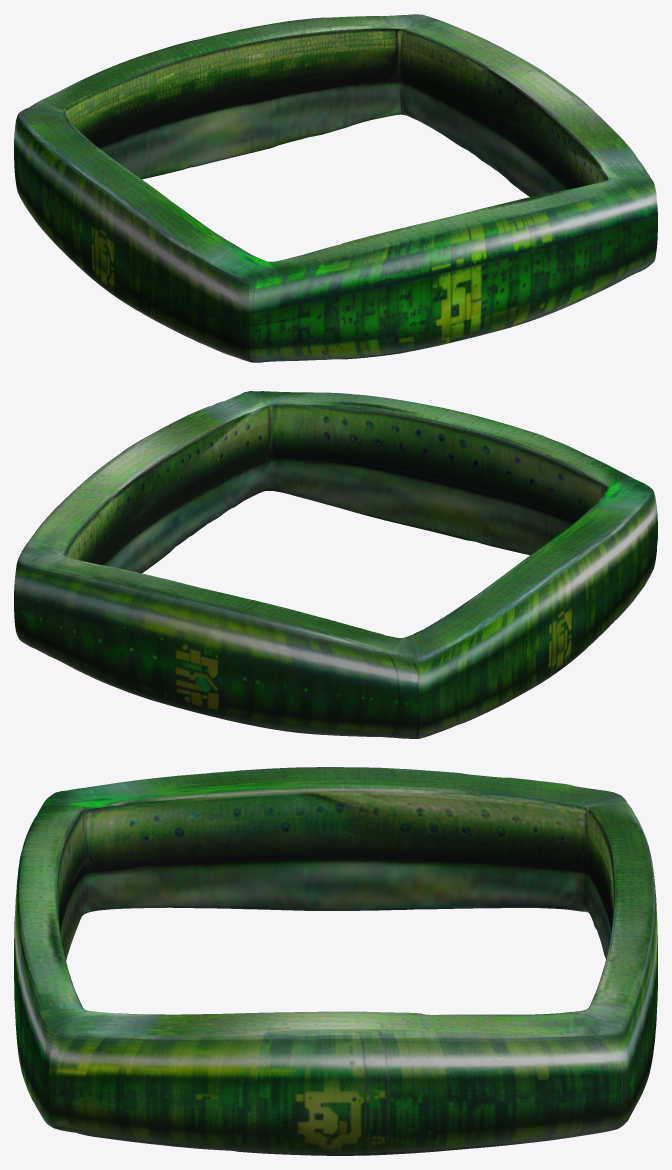
The model's file is BankPlace_0925214209.fbx.
The picture shows the model from 3 angles, top to bottom: view 1: azimuth 30°, elevation 25°; view 2: azimuth 150°, elevation 25°; view 3: azimuth 270°, elevation 25°; orthographic projection. The views are drawn at different scales.
Visible parts, largest first — view 1: Mesh_0; view 2: Mesh_0; view 3: Mesh_0.
Part boxes in pixels (bbox=[...]): Mesh_0: bbox=[14, 14, 657, 362]; Mesh_0: bbox=[14, 391, 657, 738]; Mesh_0: bbox=[14, 767, 657, 1155].
Bounding box in the file's own units: 100 × 23.79 × 99.93.
1 material, 1 textured.
